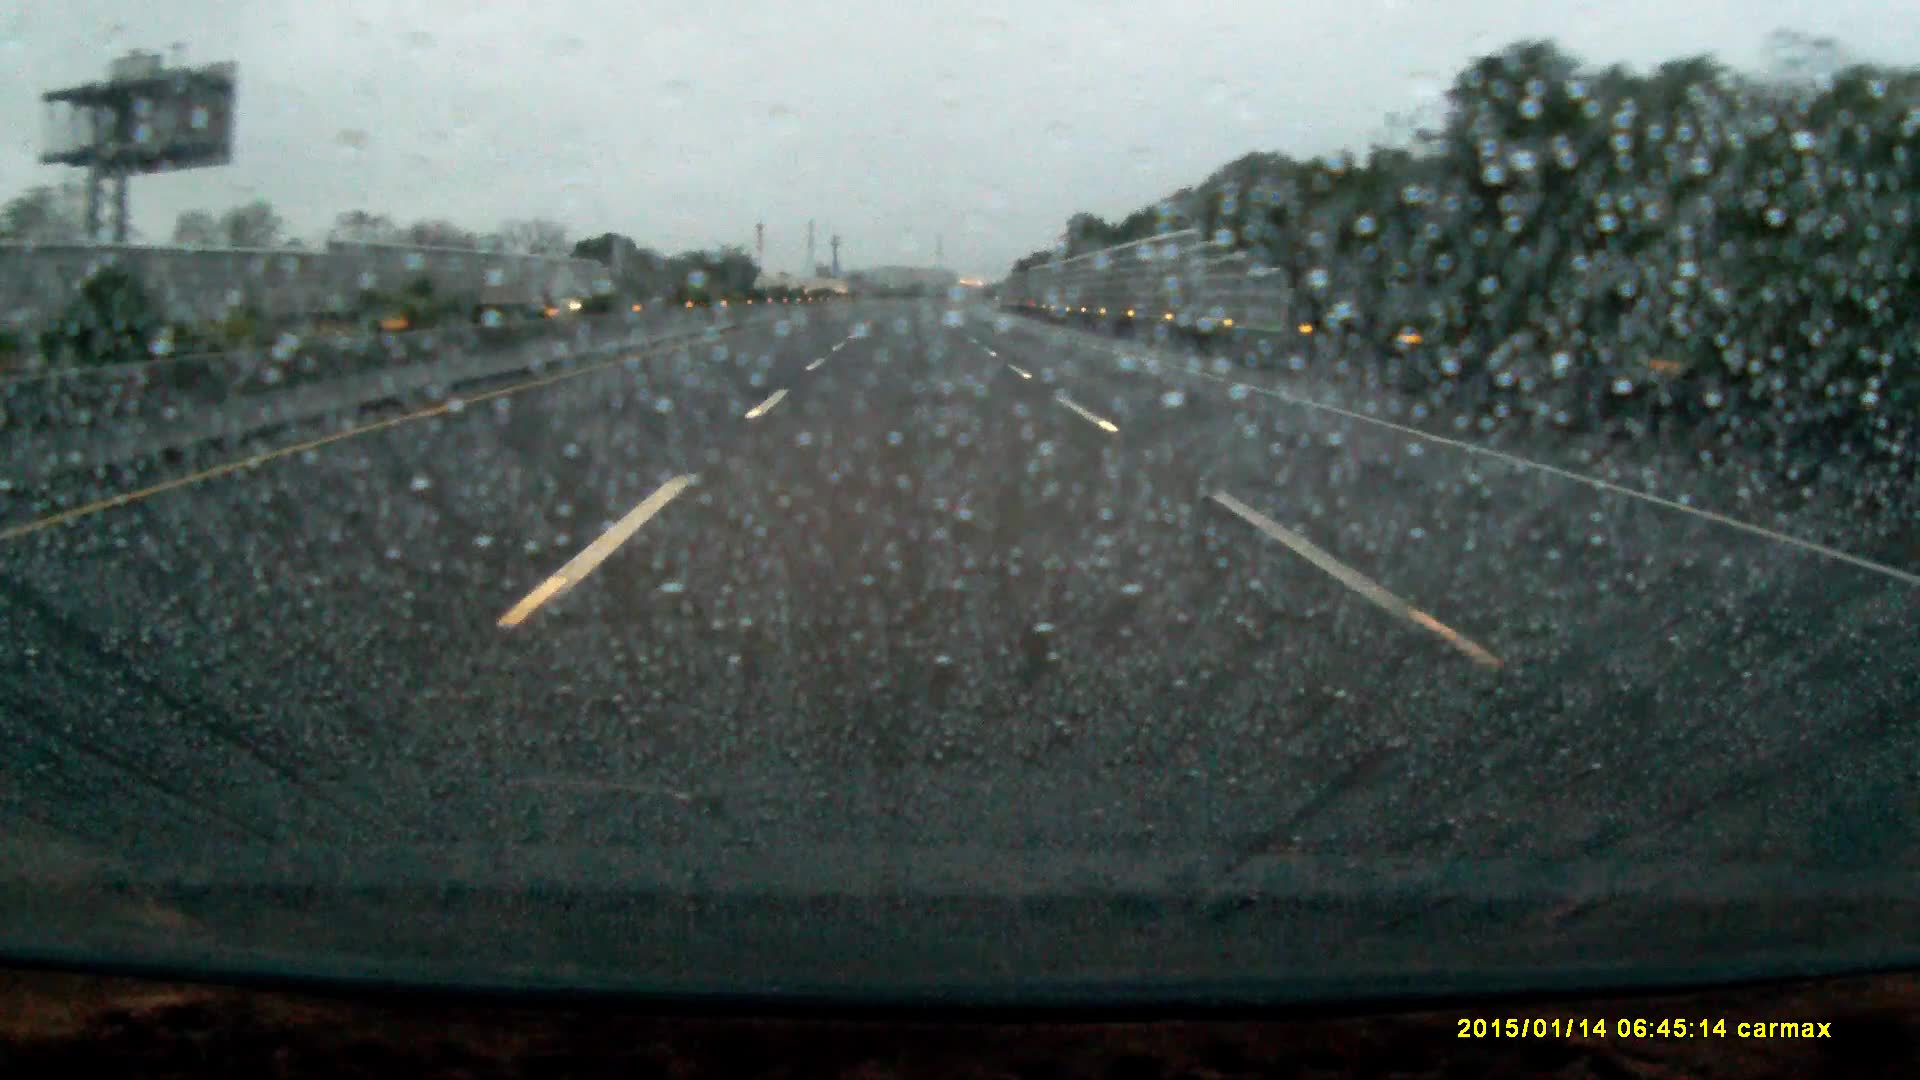vehicle: (539, 284, 601, 313)
